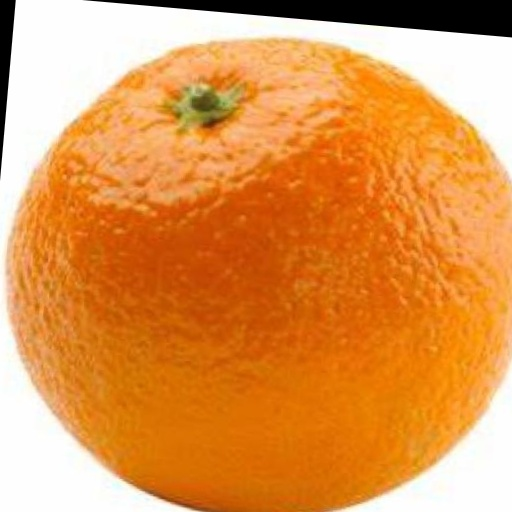fruit: (8, 40, 512, 512)
